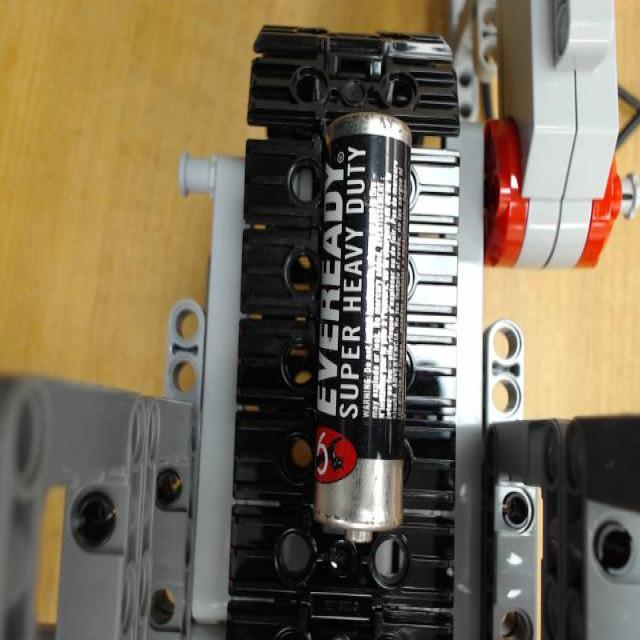AA: (306, 112, 406, 549)
